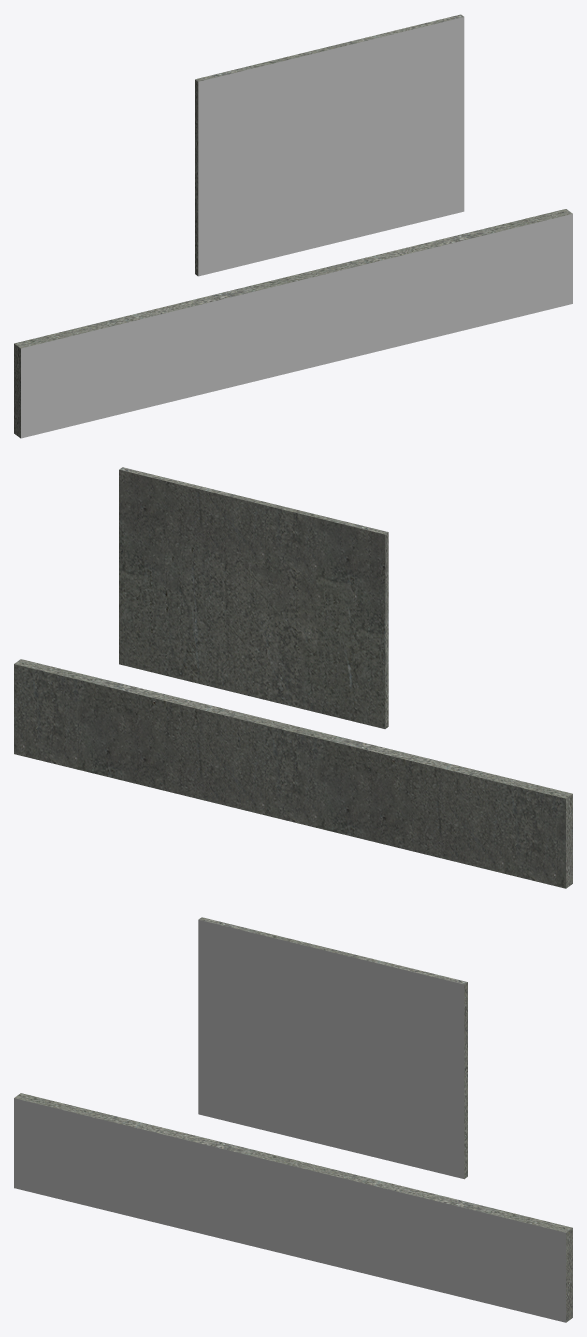
Rendered from RV_Wall_Signs_12.fbx.
The picture shows the model from 3 angles, top to bottom: view 1: azimuth 30°, elevation 25°; view 2: azimuth 150°, elevation 25°; view 3: azimuth 330°, elevation 25°; orthographic projection.
Visible parts, largest first — view 1: RV_Wall_Signs_12; view 2: RV_Wall_Signs_12; view 3: RV_Wall_Signs_12.
Boxes of the visible parts, x1,y1,x2,y2 form: RV_Wall_Signs_12: (14,14,572,438); RV_Wall_Signs_12: (14,467,572,888); RV_Wall_Signs_12: (14,917,572,1322).
Bounding box in the file's own units: 231 × 124 × 5.
